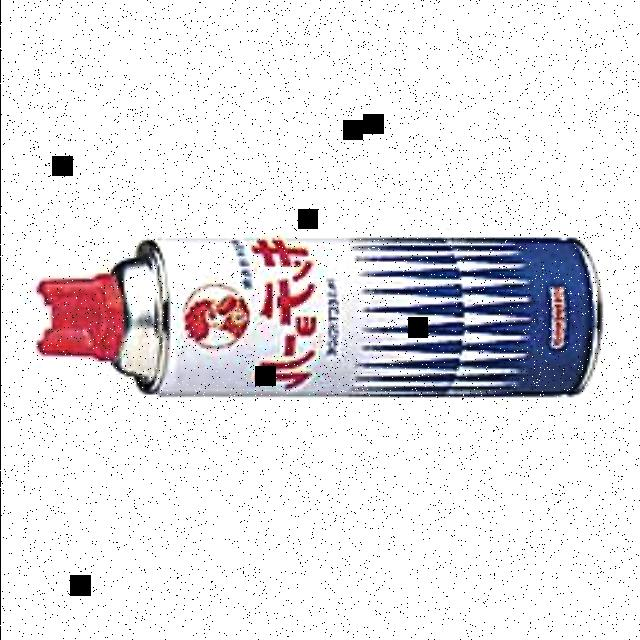chemical_spray_can: (36, 241, 598, 397)
